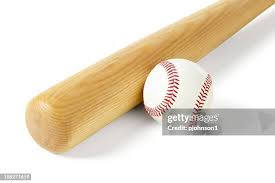baseball bat: (25, 1, 275, 153)
